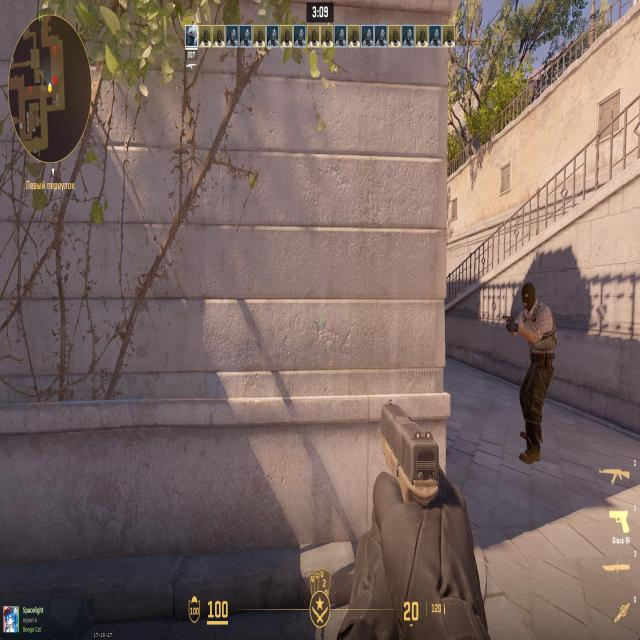T: (522, 280, 549, 450)
T_heat: (526, 301, 542, 319)
